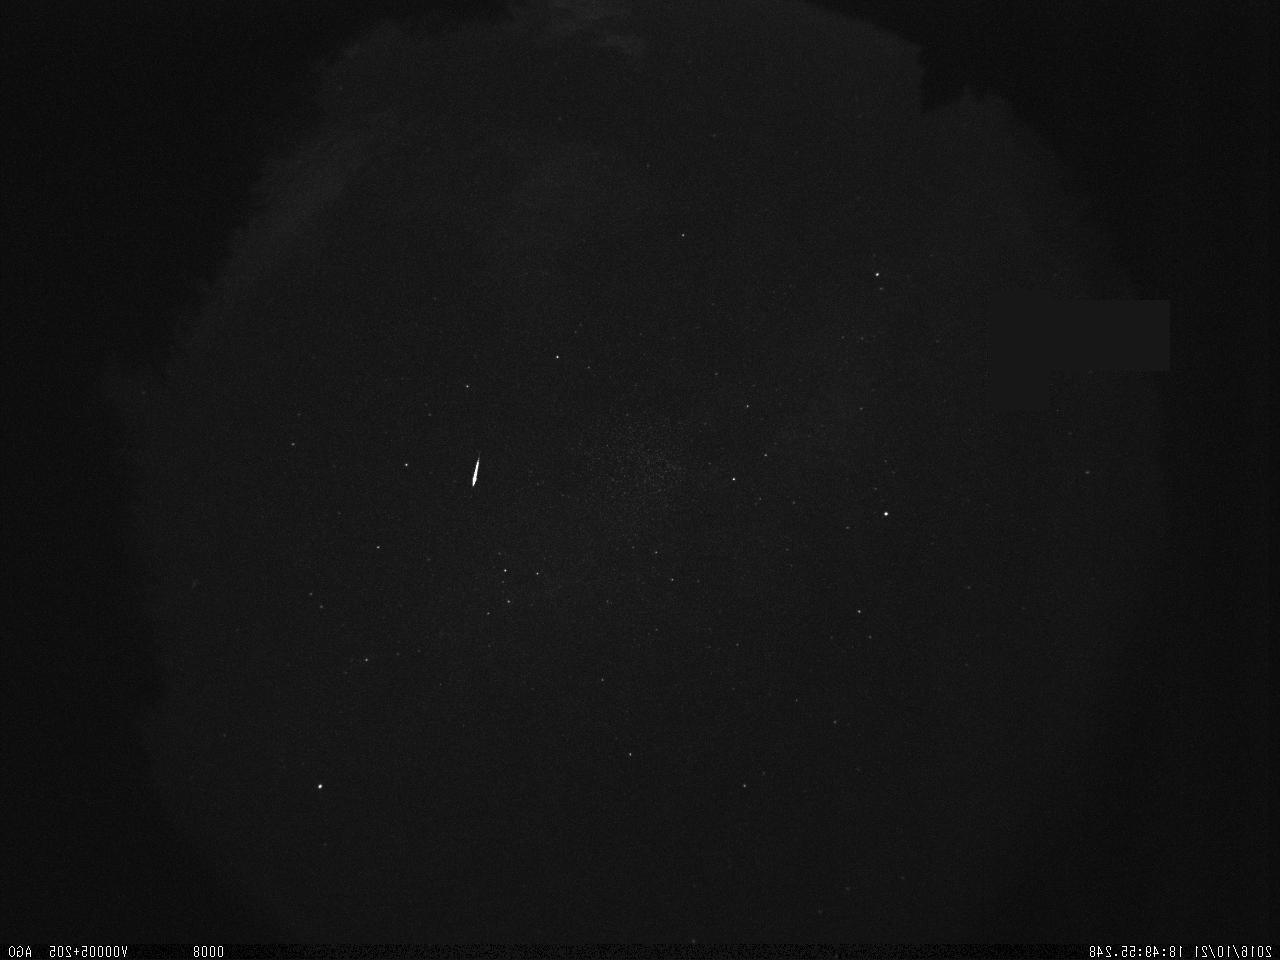meteor: (462, 443, 494, 496)
